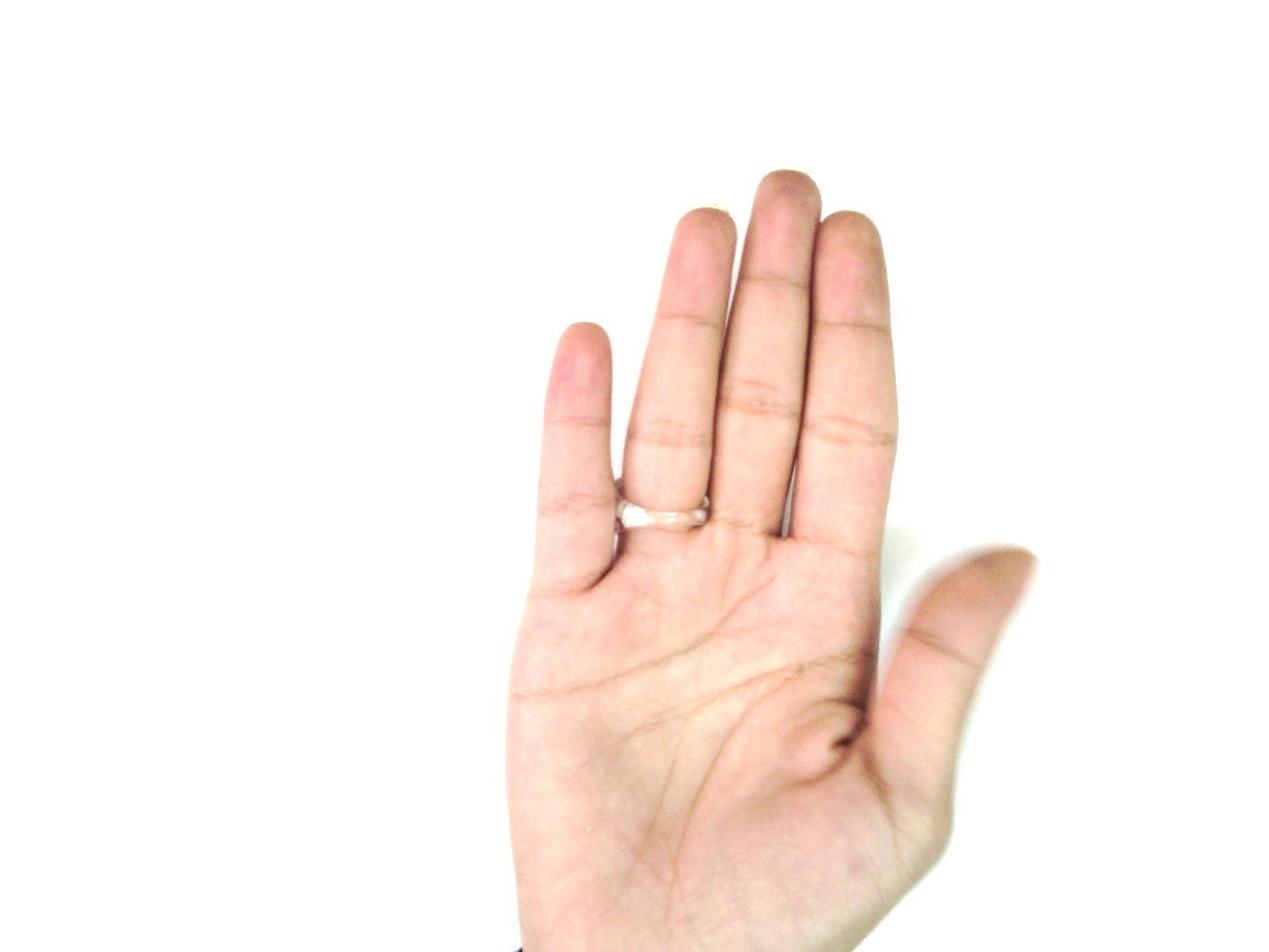open_palm: (500, 168, 1040, 951)
